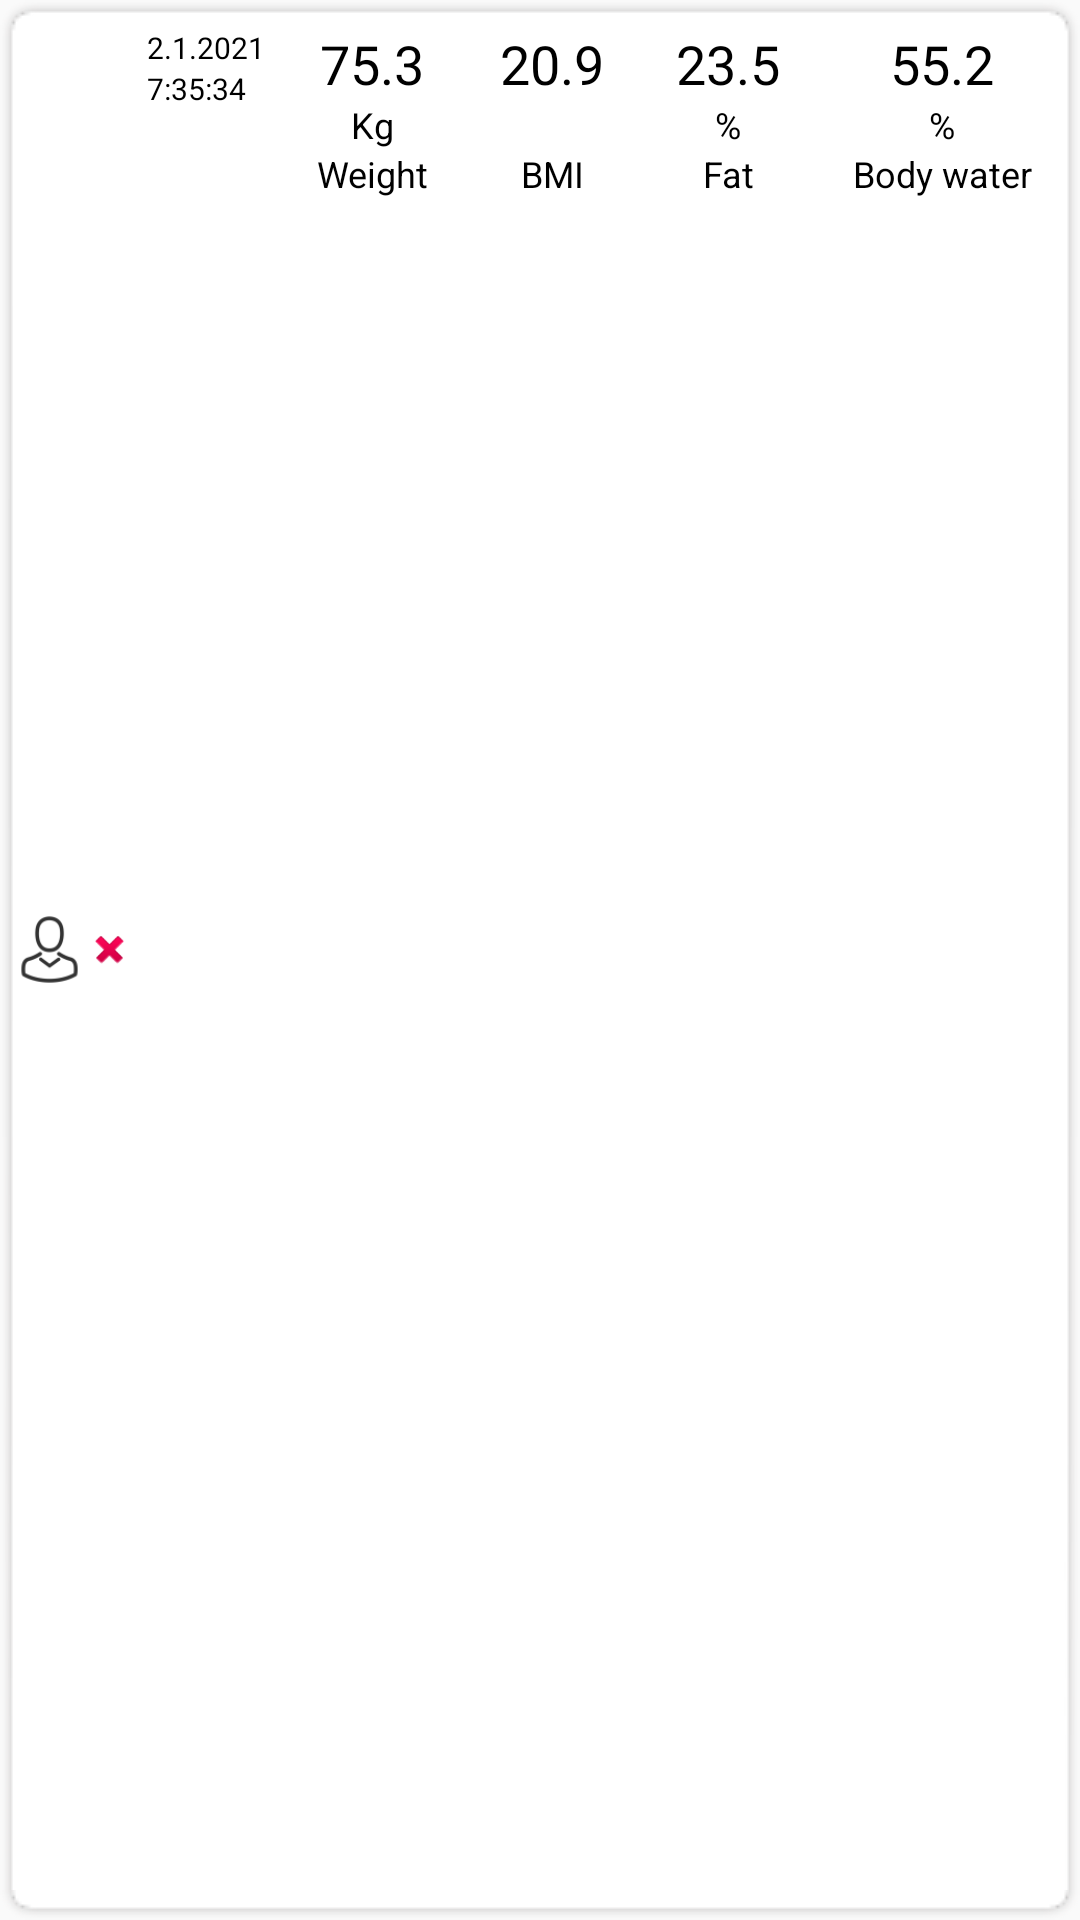

Named icons in this screenshot (1080 x 1920) and their bounding boxes, [x1=x1, y1=y1, x2=x2, y2=y2]:
delete: [x1=95, y1=936, x2=124, y2=964]
